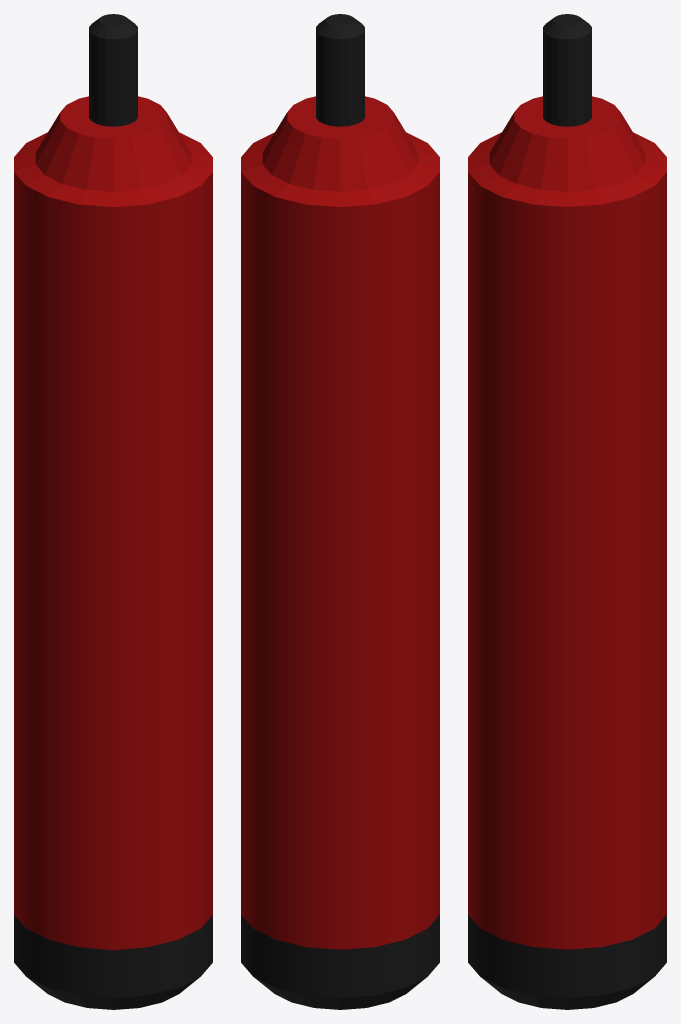
The model's file is Firework_Fountain.FBX.
3 renders of one model, left to right at view 1: azimuth 30°, elevation 25°; view 2: azimuth 150°, elevation 25°; view 3: azimuth 270°, elevation 25°, orthographic.
Visible parts, largest first — view 1: Cylinder002; view 2: Cylinder002; view 3: Cylinder002.
Part boxes in pixels (x1,y1,x2,y2): Cylinder002: [14, 14, 212, 1009]; Cylinder002: [241, 14, 439, 1009]; Cylinder002: [468, 14, 666, 1009].
Size of the model in its own units: 16.99 by 88.93 by 16.73.
